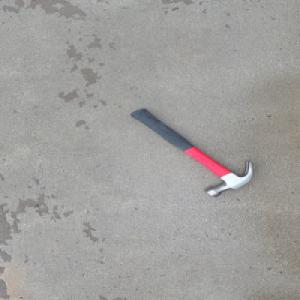Hammer: (126, 104, 253, 195)
